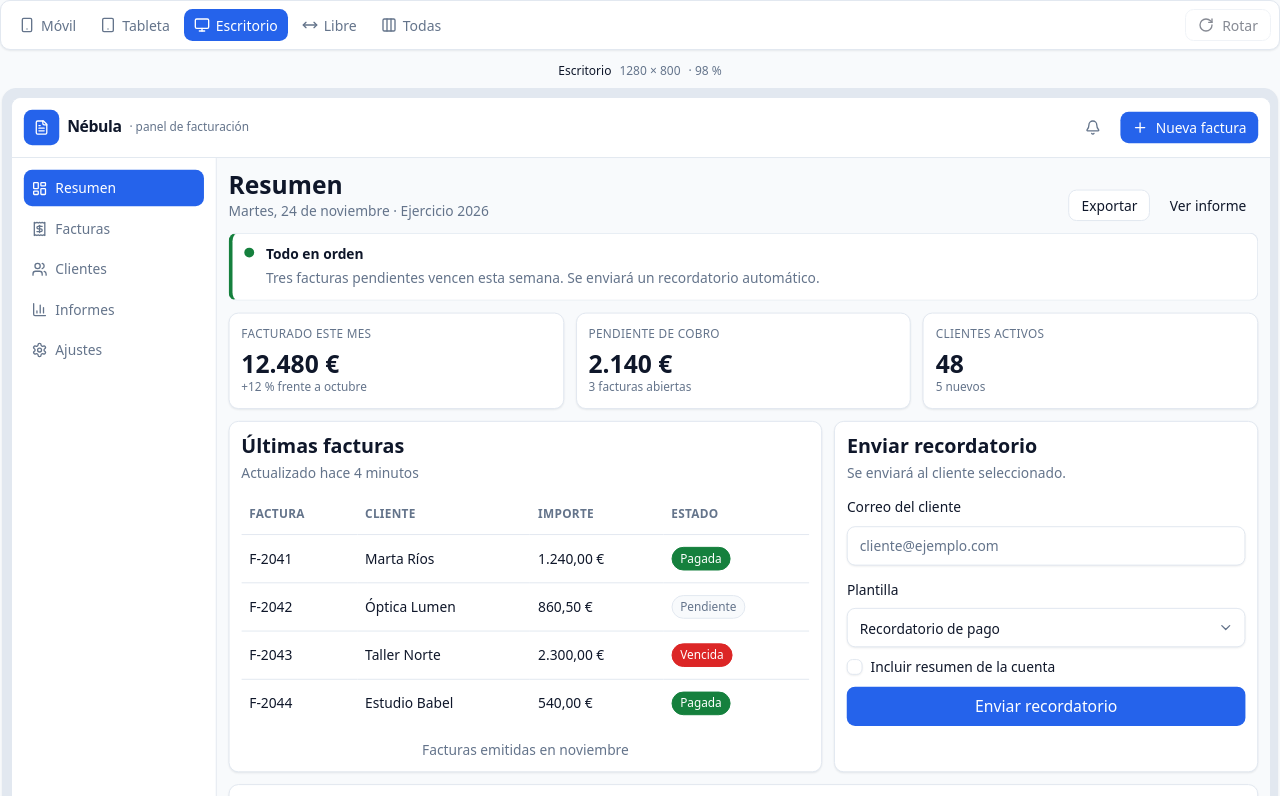
DevicePreview › desactiva la rotación en escritorio
Check: the button with aria-label "Rotar dispositivo" is disabled, box [1185,9,1271,41]
Click the button "Tableta": (135, 25) [90,9,180,41]
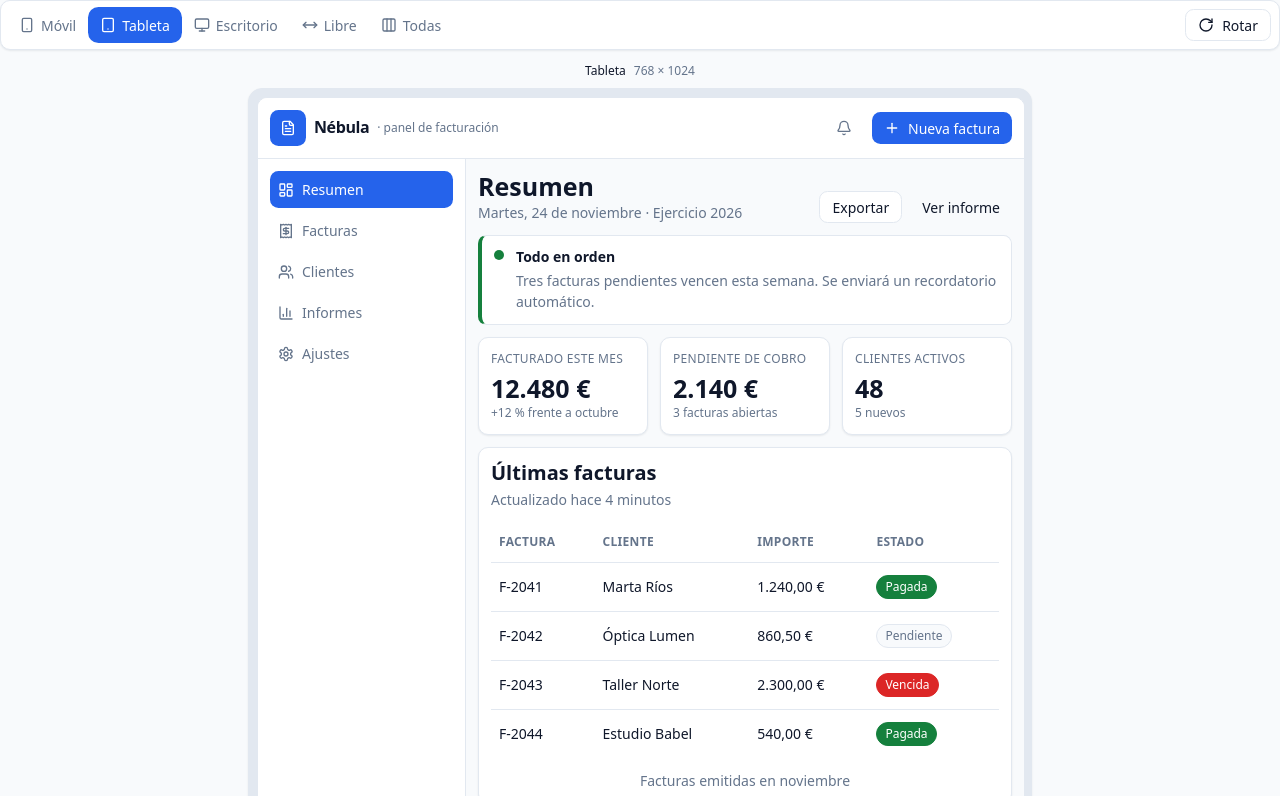
Check: the button with aria-label "Rotar dispositivo" is enabled, box [1185,9,1271,41]
Click the button "Escritorio": (236, 25) [184,9,288,41]
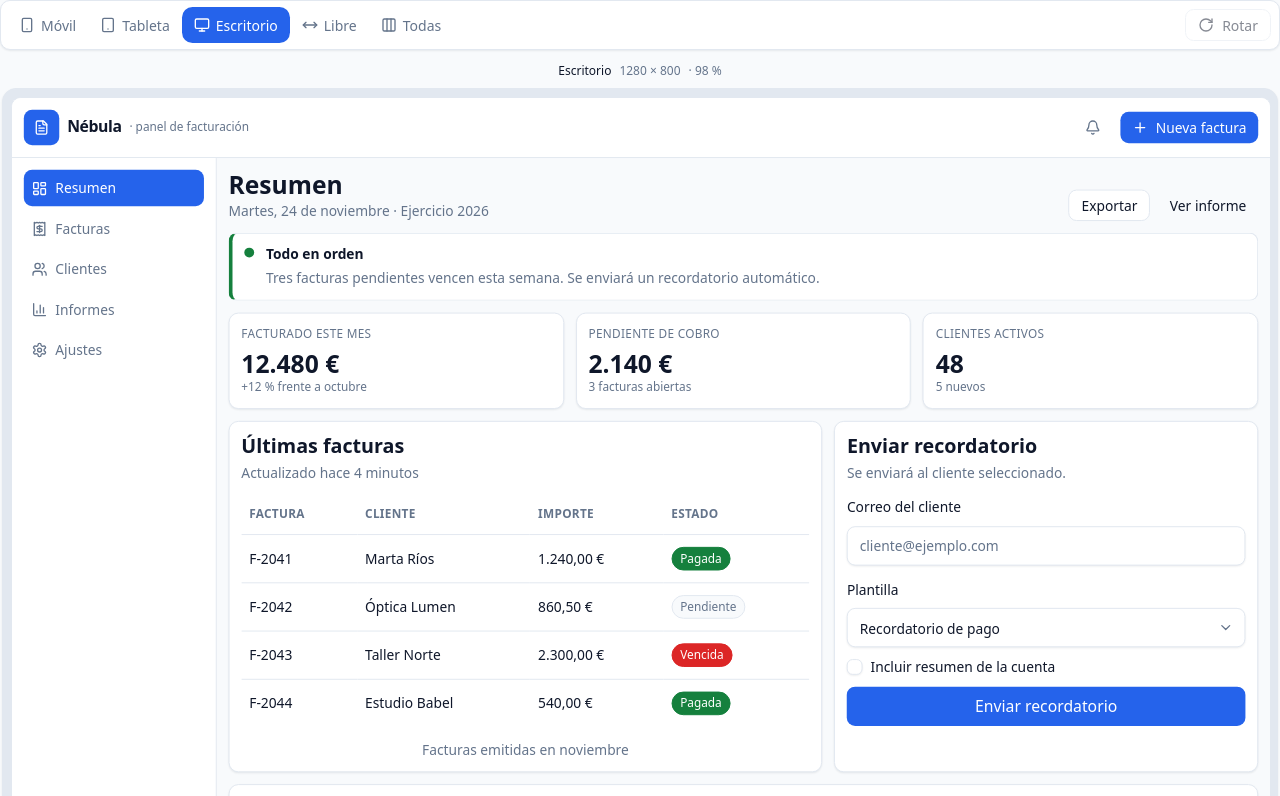
Check: the button with aria-label "Rotar dispositivo" is disabled, box [1185,9,1271,41]
